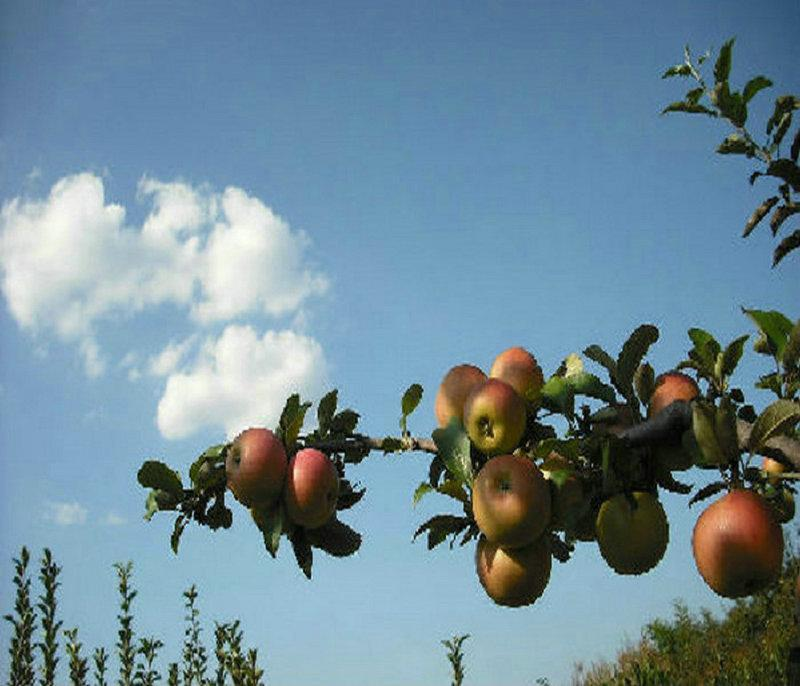apple: (692, 487, 783, 597), (473, 452, 549, 552), (597, 492, 671, 577), (222, 429, 289, 517), (462, 378, 530, 452), (286, 448, 341, 526)
